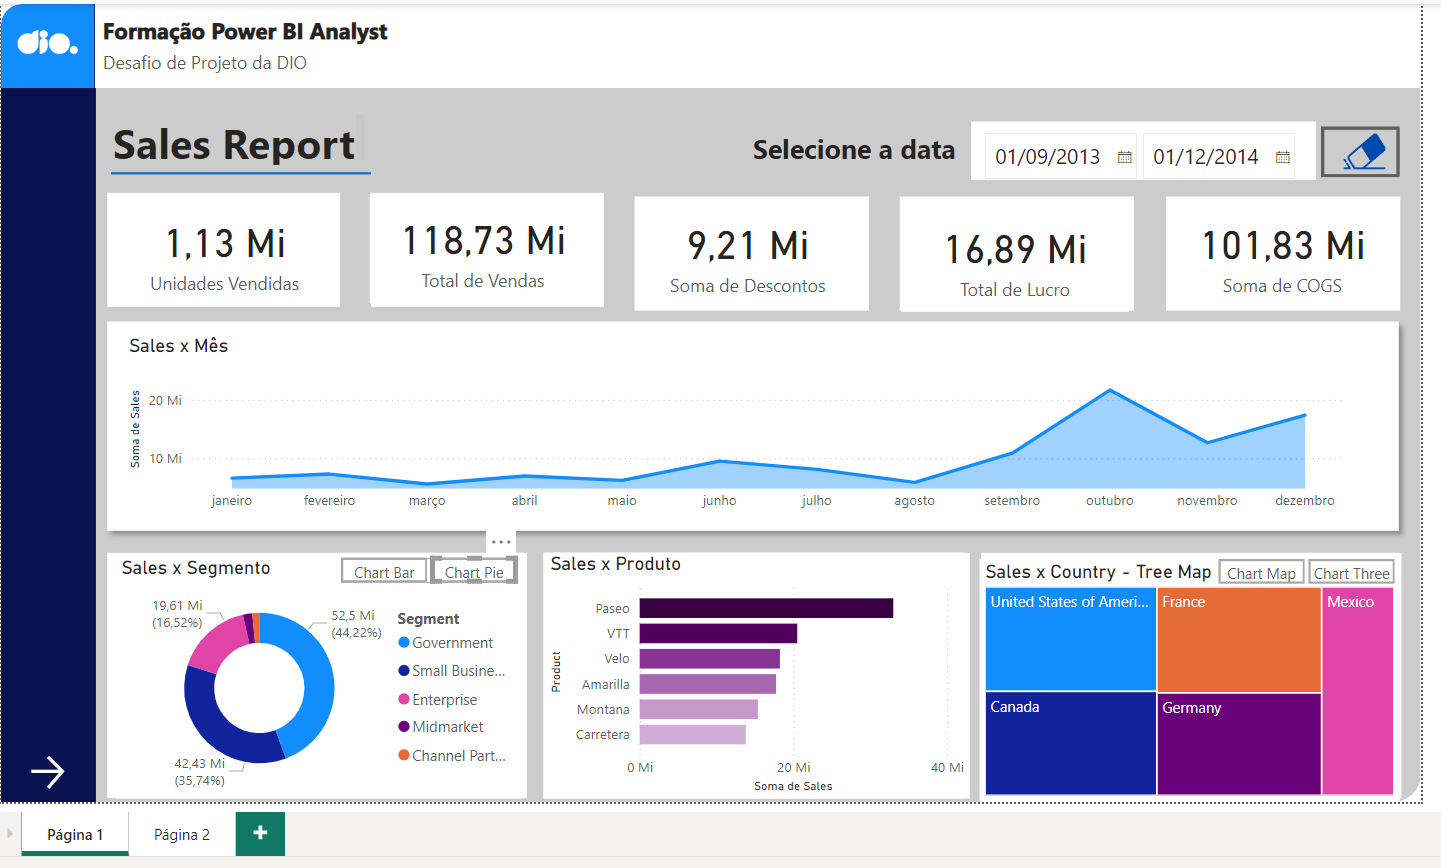

The page's visual inventory and layout, read from the dashboard file:
{"tool":"powerbi","page":{"name":"Página 1","canvas":[1280,720],"ordinal":0},"visuals":[{"type":"group","id":"g1","title":"Grupo 1","box":[0,0,1280.2,720],"z":0},{"type":"group","id":"g2","title":"Barra Lateral","box":[0,0,85.7,720],"z":0,"group":"g5"},{"type":"shape","box":[0,0,85.7,720],"z":0,"group":"g2"},{"type":"shape","box":[0,1.2,1280.2,718.6],"z":0,"group":"g1"},{"type":"shape","box":[98.6,125.7,234.3,52.9],"z":0,"group":"g8"},{"type":"shape","box":[95.7,170,210,102.9],"z":0,"group":"g9"},{"type":"group","id":"g3","title":"Sales x Segmento","box":[97,498,372.9,219.8],"z":0,"group":"g12"},{"type":"donutChart","title":"Sales x Segmento","fields":{"Y":["Sum(financials. Sales)"],"Category":["financials.Segment"]},"box":[103.9,498.1,365.9,218.4],"z":0,"group":"g3"},{"type":"actionButton","box":[1097.8,500.9,77.9,22.3],"z":0,"group":"g7"},{"type":"group","id":"g4","title":"Sales x País","box":[882.9,501.5,378.6,218.6],"z":0,"group":"g11"},{"type":"treemap","title":"Sales x Country - Tree Map","fields":{"Group":["financials.Country"],"Values":["Sum(financials. Sales)"]},"box":[882.9,502.8,378.6,217.1],"z":0,"group":"g4"},{"type":"group","id":"g5","title":"Barra lateral + seta + fundo","box":[0,0,85.7,720],"z":1000,"group":"g1"},{"type":"shape","box":[0,0,84.3,75.7],"z":1000,"group":"g2"},{"type":"textbox","box":[95.7,94.3,237.1,55.7],"z":1000,"group":"g8"},{"type":"slicer","fields":{"Values":["financials.Date"]},"box":[874.3,105.7,311.4,52.9],"z":1000,"group":"g10"},{"type":"shape","box":[333.6,170,210,102.9],"z":1000,"group":"g9"},{"type":"shape","box":[95.7,494.6,378.4,221.2],"z":1000},{"type":"group","id":"g6","title":"Grupo Botoes segmento","box":[307,499.5,158.6,22.3],"z":1000,"group":"g12"},{"type":"actionButton","title":"Botão Pie","box":[387.7,499.5,77.9,22.3],"z":1000,"group":"g6"},{"type":"group","id":"g7","title":"Grupo Botoes Country","box":[1097.8,500.9,158.6,22.3],"z":1000,"group":"g11"},{"type":"actionButton","box":[1178.5,500.9,77.9,22.3],"z":1000,"group":"g7"},{"type":"actionButton","title":"Botão seta","box":[21.4,672.9,42.9,40],"z":1000,"group":"g5"},{"type":"actionButton","title":"Botão Bar","box":[307,499.5,77.9,22.3],"z":1500,"group":"g6"},{"type":"image","box":[10,1.4,64.3,67.1],"z":2000,"group":"g2"},{"type":"textbox","box":[672.9,108.6,201.4,54.3],"z":2000,"group":"g10"},{"type":"shape","box":[571.4,172.9,211.4,102.9],"z":2000,"group":"g9"},{"type":"shape","box":[489.6,494.6,378.4,221.2],"z":2000},{"type":"image","box":[1188.6,108.6,80,47.1],"z":2500,"group":"g10"},{"type":"shape","box":[84.3,0,1195.7,75.7],"z":3000},{"type":"actionButton","title":"Botao Clean Data","box":[1190.7,110.3,71,45.9],"z":3000,"group":"g10"},{"type":"shape","box":[810.7,172.9,211.4,102.9],"z":3000,"group":"g9"},{"type":"card","fields":{"Values":["Sum(financials. Sales)"]},"box":[332.8,171.4,204.3,98.6],"z":4000,"group":"g9"},{"type":"shape","box":[883.5,494.5,379.1,221.3],"z":4000},{"type":"textbox","title":"Formação Power BI Analyst","box":[87.1,10,377.1,55.7],"z":5000},{"type":"card","fields":{"Values":["Sum(financials.Units Sold)"]},"box":[100,172.9,202.9,98.6],"z":5000,"group":"g9"},{"type":"shape","box":[1050,172.9,211.4,102.9],"z":6000,"group":"g9"},{"type":"shape","box":[86.8,277.6,1182.5,206.7],"z":6000},{"type":"card","fields":{"Values":["Sum(financials.Discounts)"]},"box":[571.4,175.7,204.3,98.6],"z":7000,"group":"g9"},{"type":"areaChart","title":"Sales x Mês","fields":{"Category":["financials.Date.Variation.Hierarquia de datas.Mês"],"Y":["Sum(financials. Sales)"]},"box":[110,297.1,1105.7,168.6],"z":7000},{"type":"card","fields":{"Values":["Sum(financials.Profit)"]},"box":[811.4,178.6,205.7,98.6],"z":8000,"group":"g9"},{"type":"barChart","title":"Sales x Produto","fields":{"Y":["Sum(financials. Sales)"],"Category":["financials.Product"]},"box":[490,494.3,382.9,221.4],"z":8000},{"type":"group","id":"g8","title":"Title Report","box":[95.7,94.3,237.1,84.3],"z":9000},{"type":"card","fields":{"Values":["Sum(financials.COGS)"]},"box":[1052.8,175.7,205.7,98.6],"z":9000,"group":"g9"},{"type":"group","id":"g9","title":"Cartões","box":[95.7,170,1165.7,107.1],"z":10000},{"type":"group","id":"g10","title":"Filtro data","box":[672.9,105.7,595.7,57.1],"z":11000},{"type":"group","id":"g11","title":"sales x Pais + botao","box":[882.9,500.9,378.6,219.1],"z":12000},{"type":"group","id":"g12","title":"Sales segmento + botao","box":[97,498,372.9,219.8],"z":13000}]}

Visuals, with their boxes on the page's 1280x720 design canvas (x1, y1, x2, y2). These are canvas units, not pixel positions in the 1441x868 screenshot, which may show the page scaled, cropped or inside an application window:
"Grupo 1" group: rect(0, 0, 1280, 720)
"Barra Lateral" group: rect(0, 0, 86, 720)
shape: rect(0, 0, 86, 720)
shape: rect(0, 1, 1280, 720)
shape: rect(99, 126, 333, 179)
shape: rect(96, 170, 306, 273)
"Sales x Segmento" group: rect(97, 498, 470, 718)
"Sales x Segmento" donutChart: rect(104, 498, 470, 716)
actionButton: rect(1098, 501, 1176, 523)
"Sales x País" group: rect(883, 502, 1262, 720)
"Sales x Country - Tree Map" treemap: rect(883, 503, 1262, 720)
"Barra lateral + seta + fundo" group: rect(0, 0, 86, 720)
shape: rect(0, 0, 84, 76)
textbox: rect(96, 94, 333, 150)
slicer - financials.Date: rect(874, 106, 1186, 159)
shape: rect(334, 170, 544, 273)
shape: rect(96, 495, 474, 716)
"Grupo Botoes segmento" group: rect(307, 500, 466, 522)
"Botão Pie" actionButton: rect(388, 500, 466, 522)
"Grupo Botoes Country" group: rect(1098, 501, 1256, 523)
actionButton: rect(1178, 501, 1256, 523)
"Botão seta" actionButton: rect(21, 673, 64, 713)
"Botão Bar" actionButton: rect(307, 500, 385, 522)
image: rect(10, 1, 74, 68)
textbox: rect(673, 109, 874, 163)
shape: rect(571, 173, 783, 276)
shape: rect(490, 495, 868, 716)
image: rect(1189, 109, 1269, 156)
shape: rect(84, 0, 1280, 76)
"Botao Clean Data" actionButton: rect(1191, 110, 1262, 156)
shape: rect(811, 173, 1022, 276)
card - Sum(financials. Sales): rect(333, 171, 537, 270)
shape: rect(884, 494, 1263, 716)
"Formação Power BI Analyst" textbox: rect(87, 10, 464, 66)
card - Sum(financials.Units Sold): rect(100, 173, 303, 272)
shape: rect(1050, 173, 1261, 276)
shape: rect(87, 278, 1269, 484)
card - Sum(financials.Discounts): rect(571, 176, 776, 274)
"Sales x Mês" areaChart: rect(110, 297, 1216, 466)
card - Sum(financials.Profit): rect(811, 179, 1017, 277)
"Sales x Produto" barChart: rect(490, 494, 873, 716)
"Title Report" group: rect(96, 94, 333, 179)
card - Sum(financials.COGS): rect(1053, 176, 1258, 274)
"Cartões" group: rect(96, 170, 1261, 277)
"Filtro data" group: rect(673, 106, 1269, 163)
"sales x Pais + botao" group: rect(883, 501, 1262, 720)
"Sales segmento + botao" group: rect(97, 498, 470, 718)
